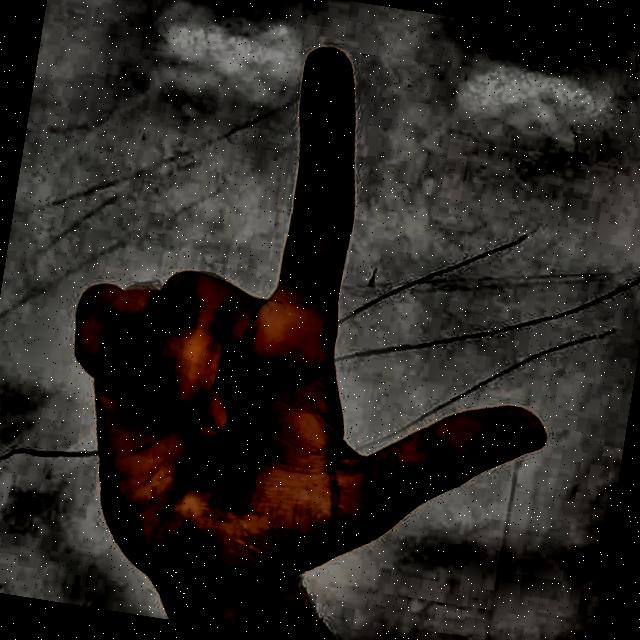La: (0, 0, 618, 640)
